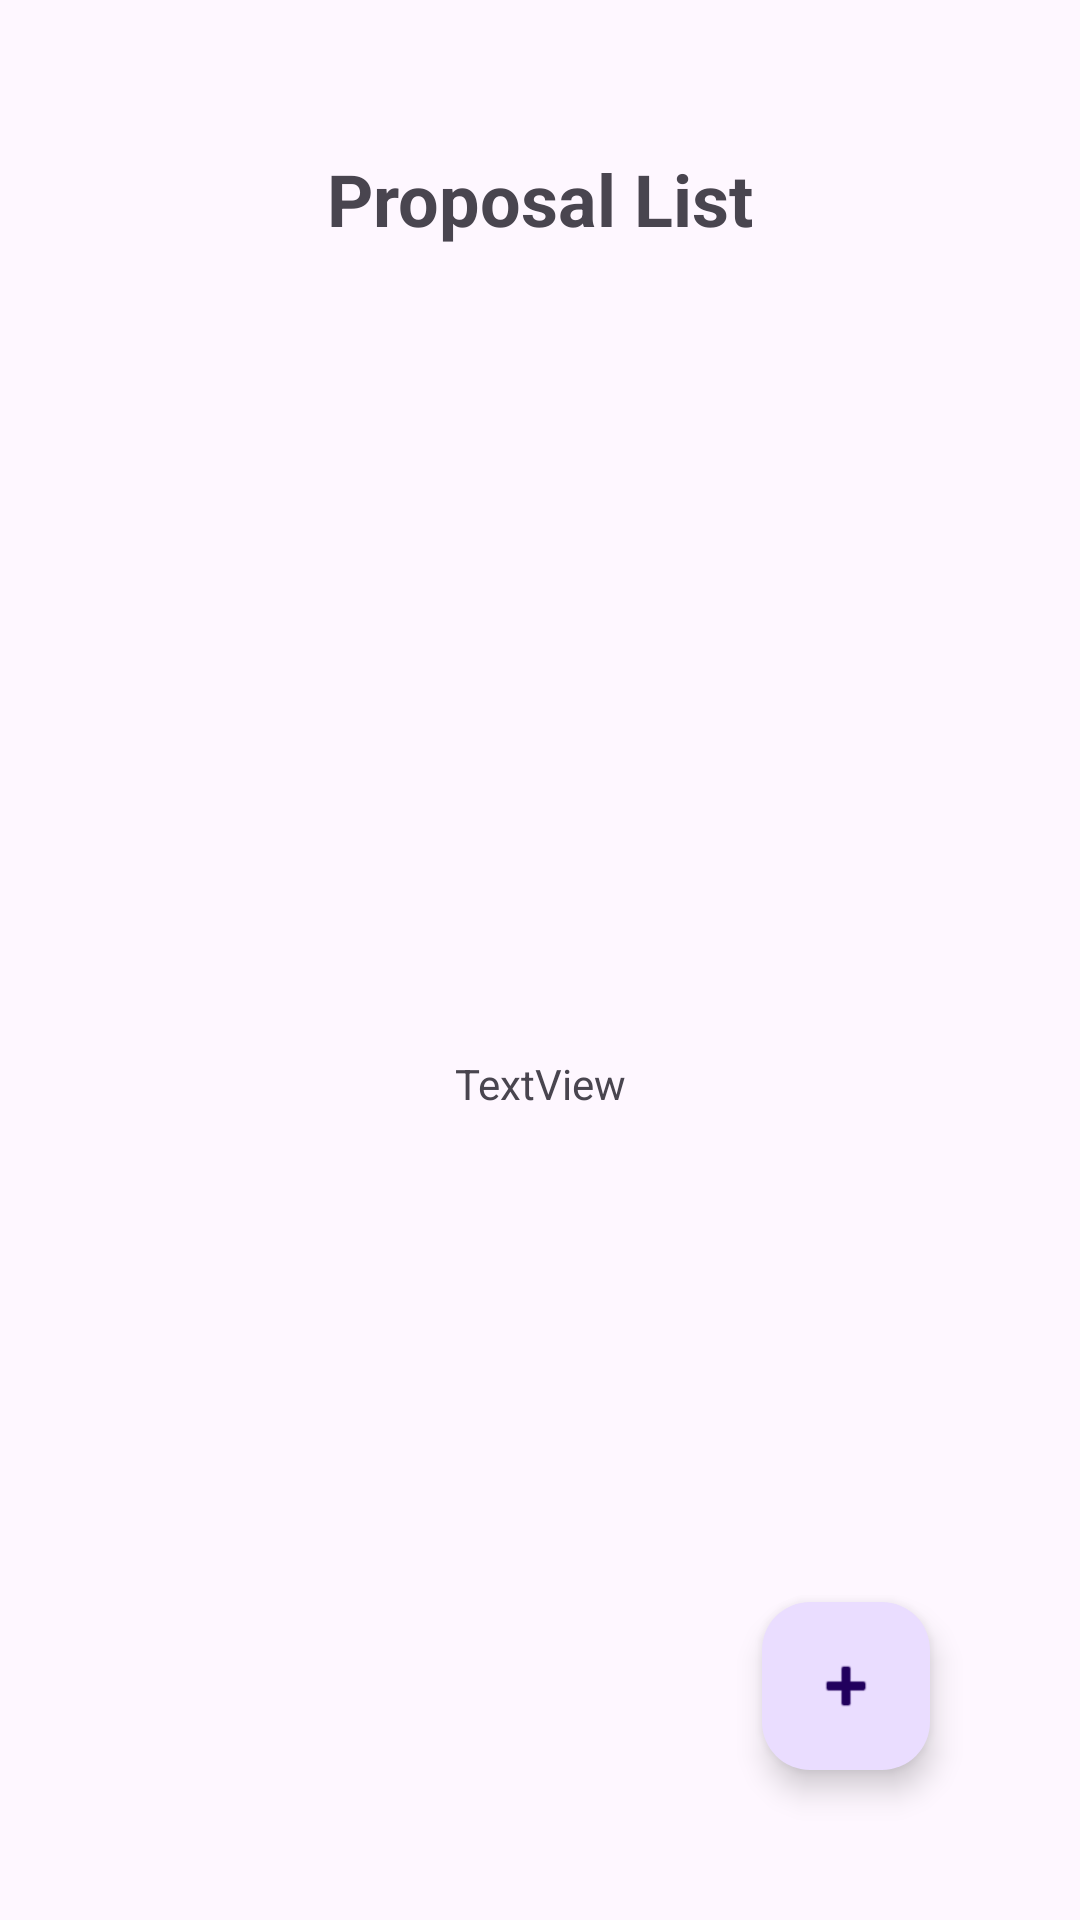

Where to tap for icons on this 1080px x 1920px app screen, as (x=x, y=y):
add: (x=846, y=1686)
